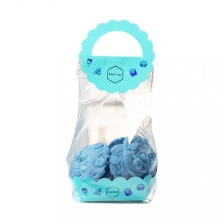snack: (60, 12, 164, 208)
